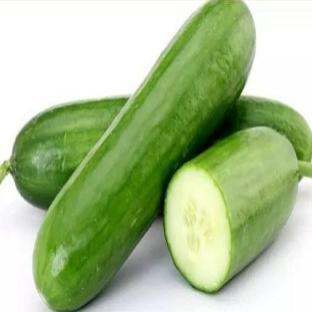Cucumber: (164, 128, 311, 291), (0, 98, 128, 207), (222, 97, 311, 161)
